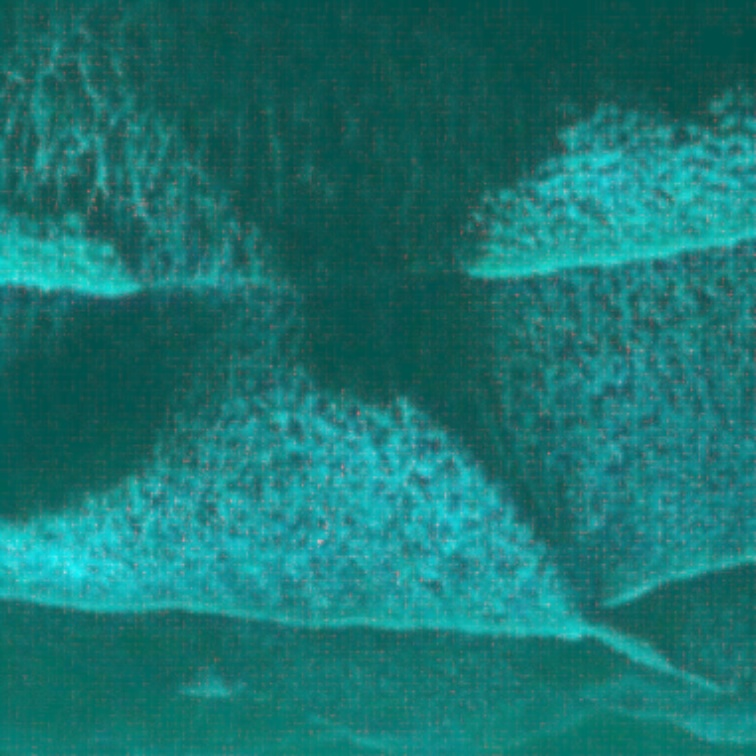rip_current: (249, 178, 618, 543)
